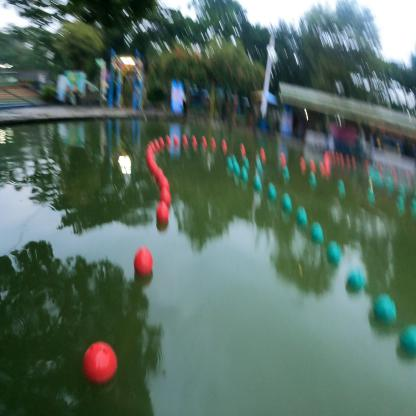green_buoy: (373, 292, 397, 325), (399, 321, 415, 356), (346, 266, 366, 290), (326, 239, 342, 263), (310, 222, 324, 242), (295, 206, 308, 224), (281, 193, 292, 211), (267, 182, 276, 198), (253, 174, 261, 188), (240, 167, 248, 180), (396, 196, 405, 206), (242, 156, 250, 167), (367, 187, 375, 198), (233, 162, 240, 174), (282, 165, 289, 177), (309, 170, 316, 182), (338, 178, 345, 190), (226, 156, 233, 167), (230, 154, 237, 164), (255, 159, 262, 169), (410, 198, 416, 208), (398, 184, 405, 192), (413, 189, 415, 198)
red_buoy: (83, 341, 117, 384), (133, 245, 153, 274), (156, 203, 168, 226), (160, 189, 171, 208), (160, 177, 170, 194), (149, 160, 158, 176), (155, 168, 164, 182), (147, 154, 154, 164), (154, 140, 160, 150), (149, 142, 155, 152), (158, 138, 164, 146), (146, 149, 152, 156), (166, 135, 170, 145), (221, 138, 226, 146), (240, 143, 245, 151), (202, 135, 206, 144), (211, 136, 215, 145), (260, 147, 265, 154), (182, 135, 186, 143), (192, 135, 196, 143), (310, 160, 315, 166), (174, 138, 178, 145), (300, 157, 304, 164), (320, 162, 324, 169), (325, 164, 329, 171), (339, 152, 343, 158), (281, 153, 285, 159), (324, 154, 328, 160), (324, 160, 328, 166), (325, 151, 328, 158), (345, 154, 349, 159), (351, 156, 355, 161), (331, 151, 334, 156), (328, 151, 330, 155), (336, 152, 338, 156)
